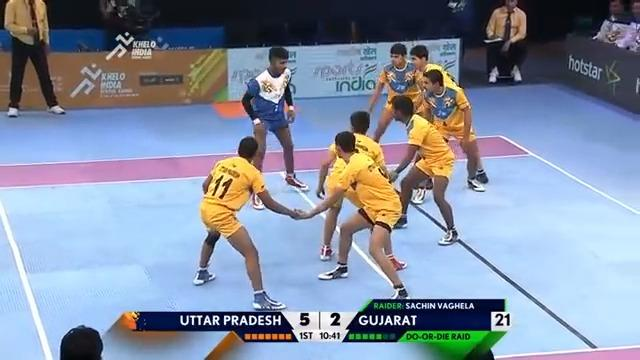Player: (292, 129, 411, 300), (190, 133, 304, 311), (386, 93, 460, 246), (424, 71, 485, 196), (369, 44, 413, 97), (410, 52, 437, 83)
Raider: (239, 44, 309, 209)
referee: (3, 0, 66, 117), (482, 0, 528, 84)
